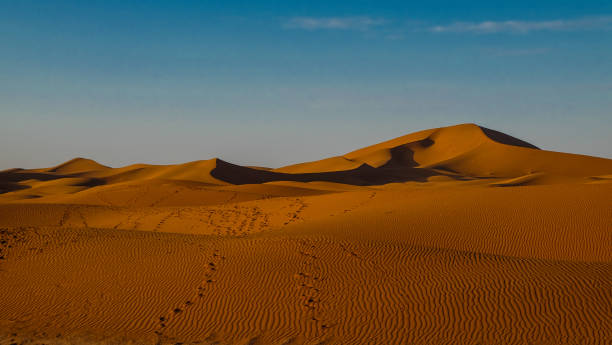animal_foot_print: (154, 249, 225, 342), (293, 240, 332, 336), (199, 204, 268, 236), (0, 227, 48, 263), (330, 191, 376, 215), (0, 228, 23, 262), (113, 209, 150, 229), (344, 191, 376, 212), (58, 207, 88, 227), (283, 198, 306, 224), (153, 210, 178, 231), (149, 189, 179, 206), (339, 243, 363, 259), (95, 192, 115, 206), (76, 208, 88, 227), (58, 207, 69, 226)
